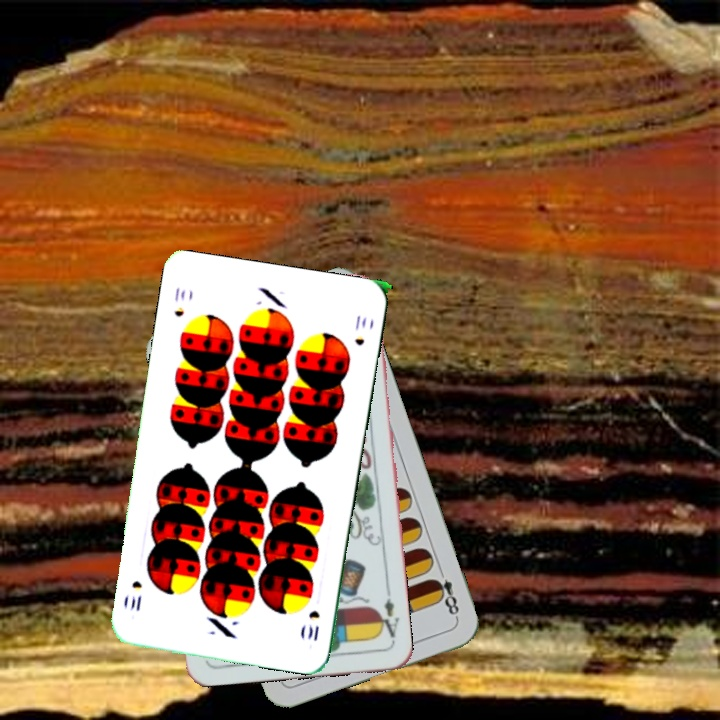E8: (429, 564, 462, 622)
EA: (374, 585, 402, 644)
S10: (303, 606, 322, 644), (170, 283, 188, 319)
